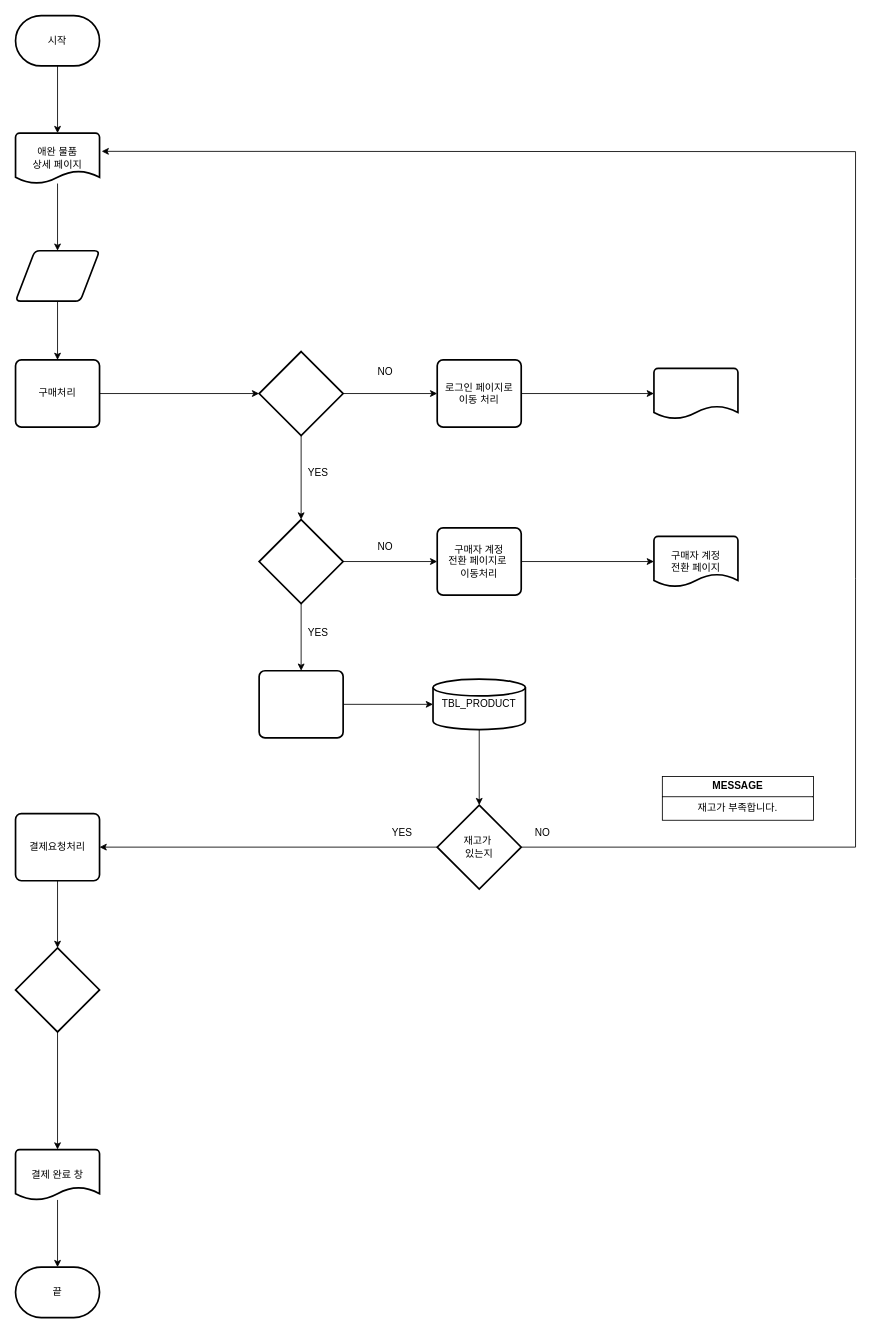
This 877x1332 diagram has some shape labels left out. The shapes that lost their labels are listed below. From the top down, each one's centre as x and y in pixels, then its label:
At (x=57, y=275): "구매요청".
At (x=301, y=393): "로그인 상태인지".
At (x=695, y=393): "로그인 페이지".
At (x=301, y=561): "구매자 계정인지".
At (x=301, y=703): "재고확인".
At (x=57, y=989): "제대로 결제처리가 되었는가?".
